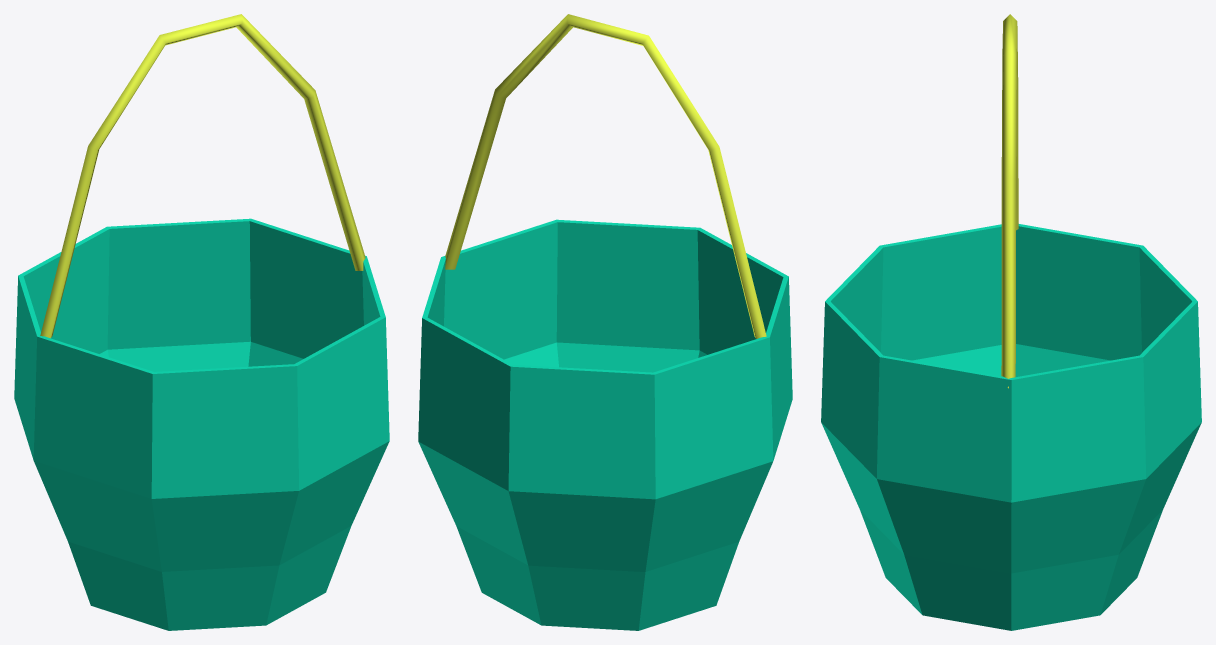
Rendered from Bucket.fbx.
The picture shows the model from 3 angles, left to right: view 1: azimuth 30°, elevation 25°; view 2: azimuth 150°, elevation 25°; view 3: azimuth 270°, elevation 25°; orthographic projection. The views are drawn at different scales.
Visible parts, largest first — view 1: Bucket, Gagang; view 2: Bucket, Gagang; view 3: Bucket, Gagang.
Boxes of the visible parts, x1,y1,x2,y2 form: Bucket: (14, 218, 389, 630); Gagang: (40, 14, 365, 338); Bucket: (418, 219, 792, 630); Gagang: (445, 14, 766, 338); Bucket: (821, 224, 1201, 630); Gagang: (1001, 14, 1018, 388).
Bounding box in the file's own units: 53.16 × 83.87 × 53.16.
